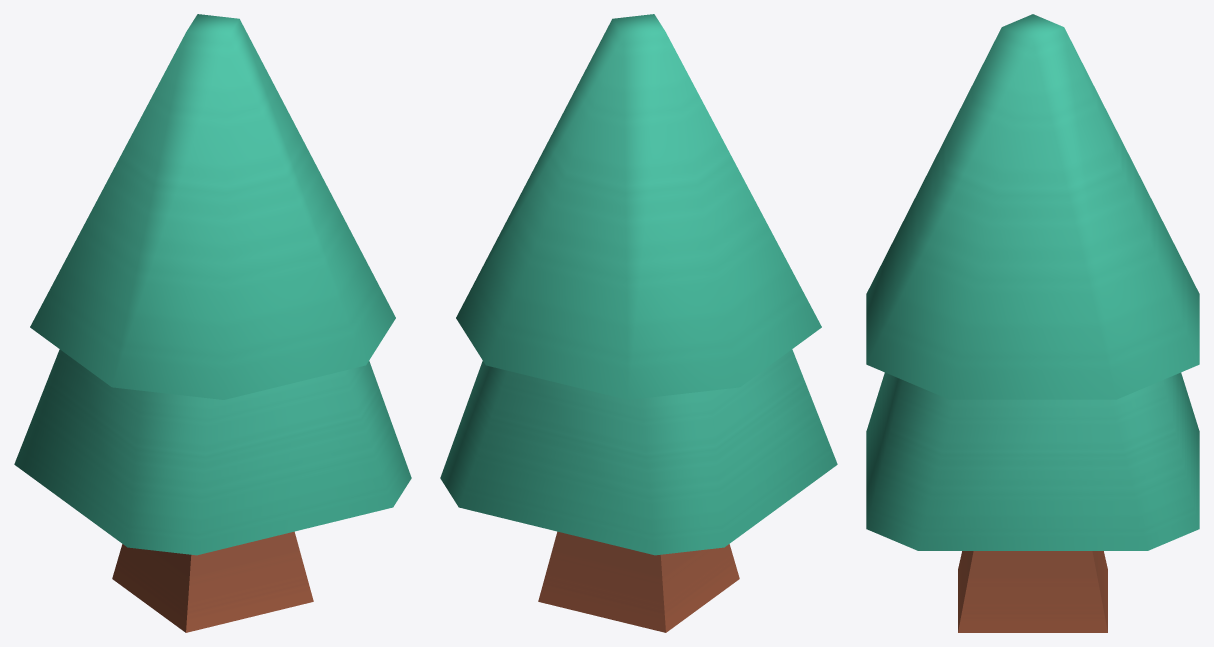
File: tree.fbx
3 views of the same model, side by side, from view 1: azimuth 30°, elevation 25°; view 2: azimuth 150°, elevation 25°; view 3: azimuth 270°, elevation 25° (orthographic).
Parts seen in each view (by area): view 1: unit_tree; view 2: unit_tree; view 3: unit_tree.
Part boxes in pixels (left/top/right/bottom): unit_tree: left=14, top=14, right=411, bottom=632; unit_tree: left=440, top=14, right=837, bottom=632; unit_tree: left=866, top=14, right=1199, bottom=632.
Bounding box in the file's own units: 20 × 38 × 20.
